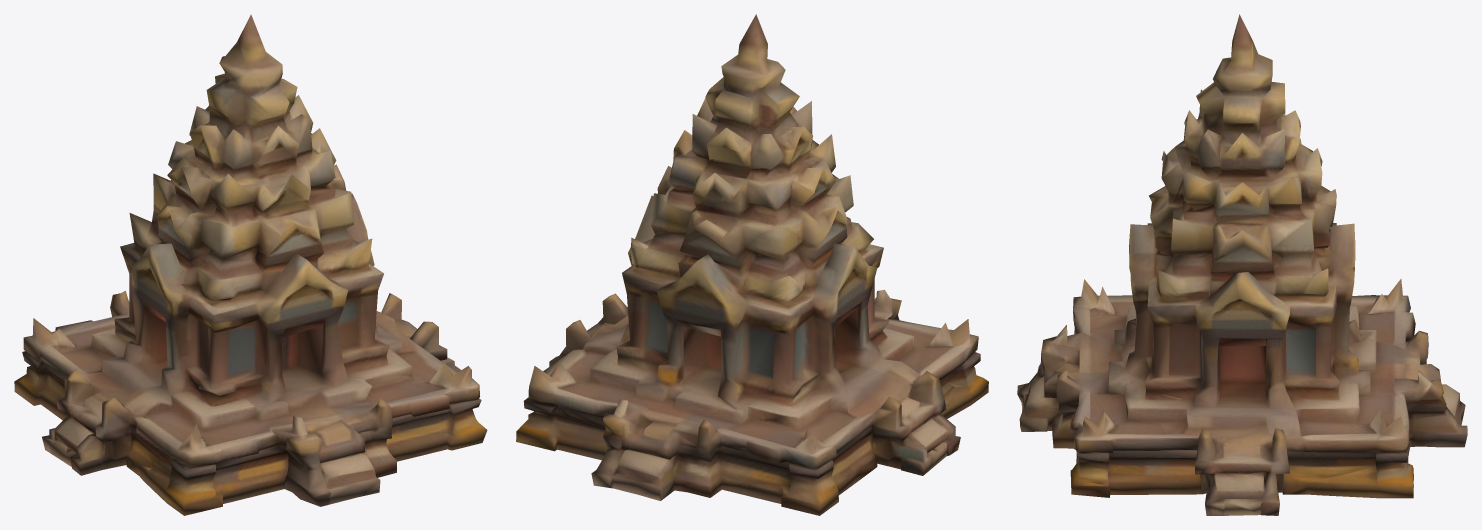
The model's file is angkor-wat.glb.
The picture shows the model from 3 angles, left to right: view 1: azimuth 30°, elevation 25°; view 2: azimuth 150°, elevation 25°; view 3: azimuth 270°, elevation 25°; orthographic projection.
Visible parts, largest first — view 1: tripo_node_5c535153-5de3-453d-b2aa-5a15d1a3ea3f; view 2: tripo_node_5c535153-5de3-453d-b2aa-5a15d1a3ea3f; view 3: tripo_node_5c535153-5de3-453d-b2aa-5a15d1a3ea3f.
Boxes of the visible parts, box(x1,y1,x2,y2) form: tripo_node_5c535153-5de3-453d-b2aa-5a15d1a3ea3f: box(14, 14, 487, 515); tripo_node_5c535153-5de3-453d-b2aa-5a15d1a3ea3f: box(516, 14, 988, 515); tripo_node_5c535153-5de3-453d-b2aa-5a15d1a3ea3f: box(1017, 14, 1467, 515).
Size of the model in its own units: 0.9908 by 0.9999 by 1.
1 material, 1 textured.
